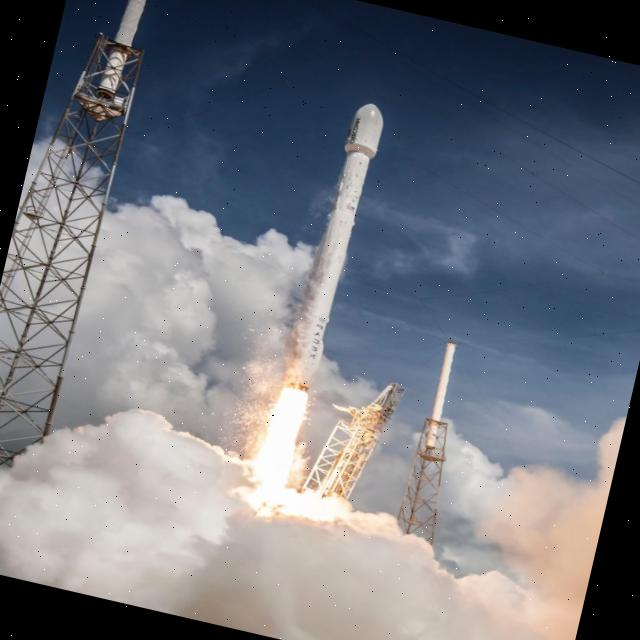rocket: (275, 84, 405, 370)
